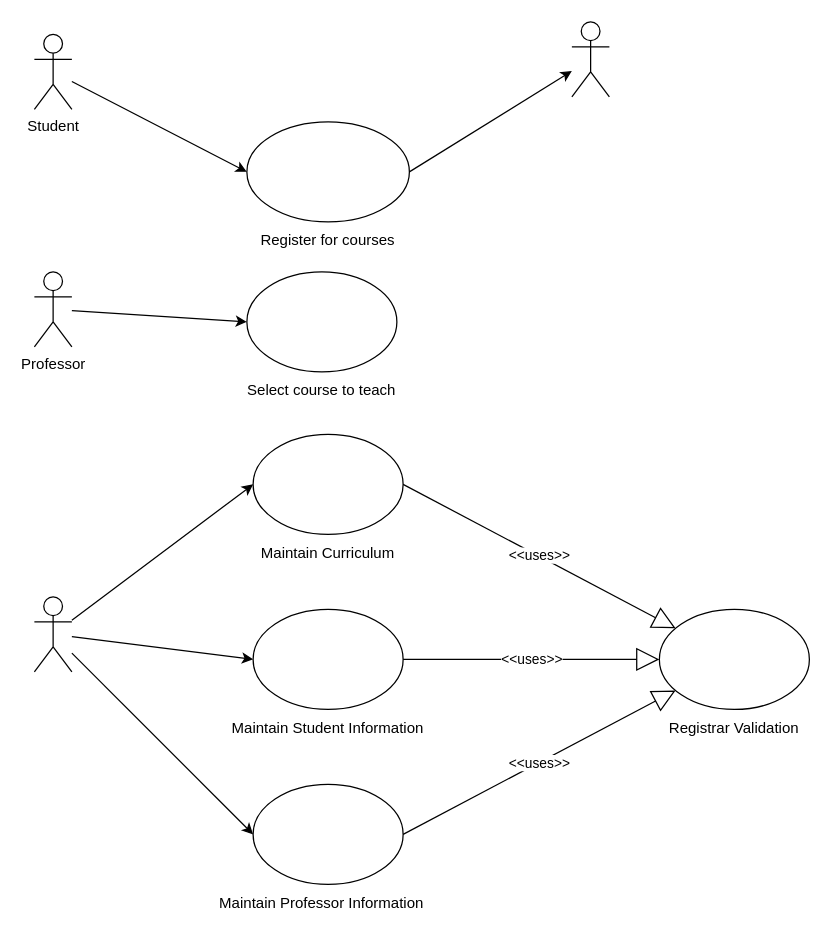
The diagram is 838 pixels wide and 944 high, and some of its shapes have lost their labels. The shapes that lost their labels are listed below. From the top down, each one's centre as x and y in pixels, then its label:
At point (590, 59): "Billing System".
At point (52, 634): "Registrar".
